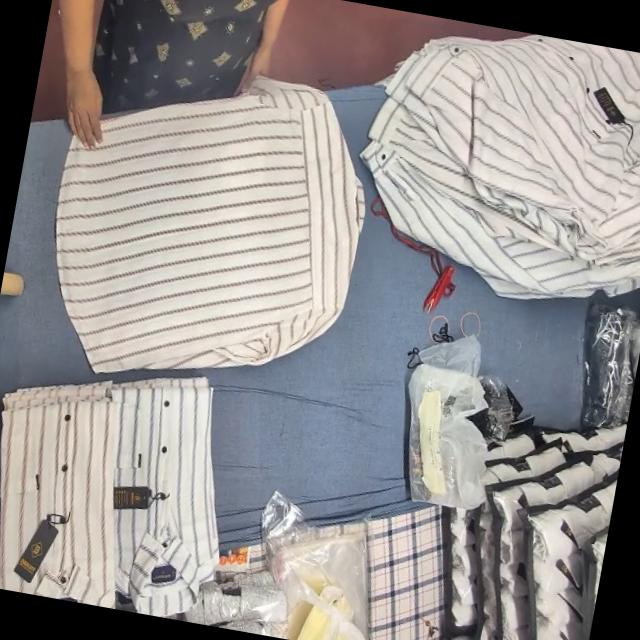new-garment: (55, 80, 362, 372)
